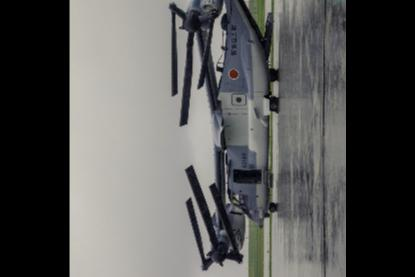Tornado: (168, 0, 279, 272)
